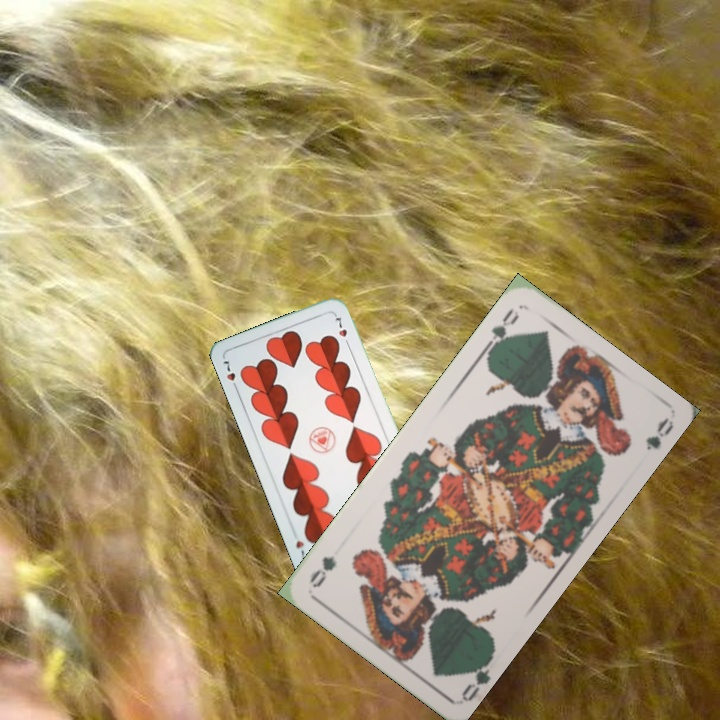GO: (479, 303, 522, 355), (457, 649, 497, 703)
H7: (219, 356, 241, 394)
